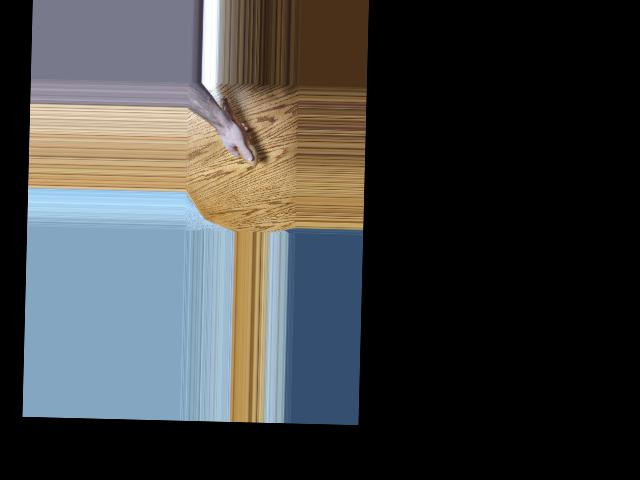sweet_potato: (217, 85, 260, 167)
